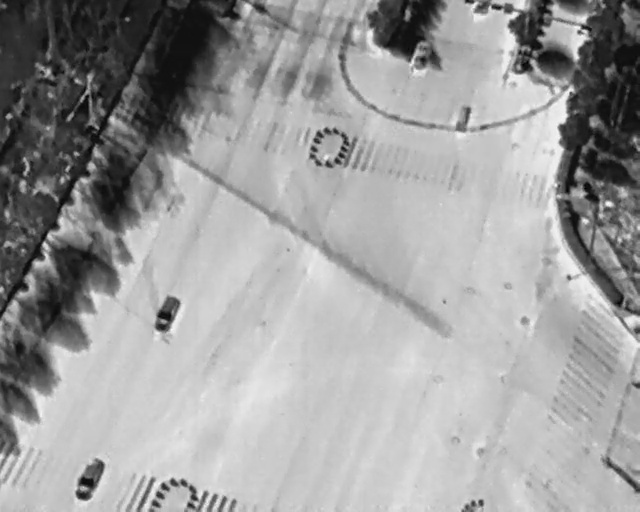Car: (71, 453, 107, 505), (150, 292, 182, 336), (409, 38, 436, 73)
